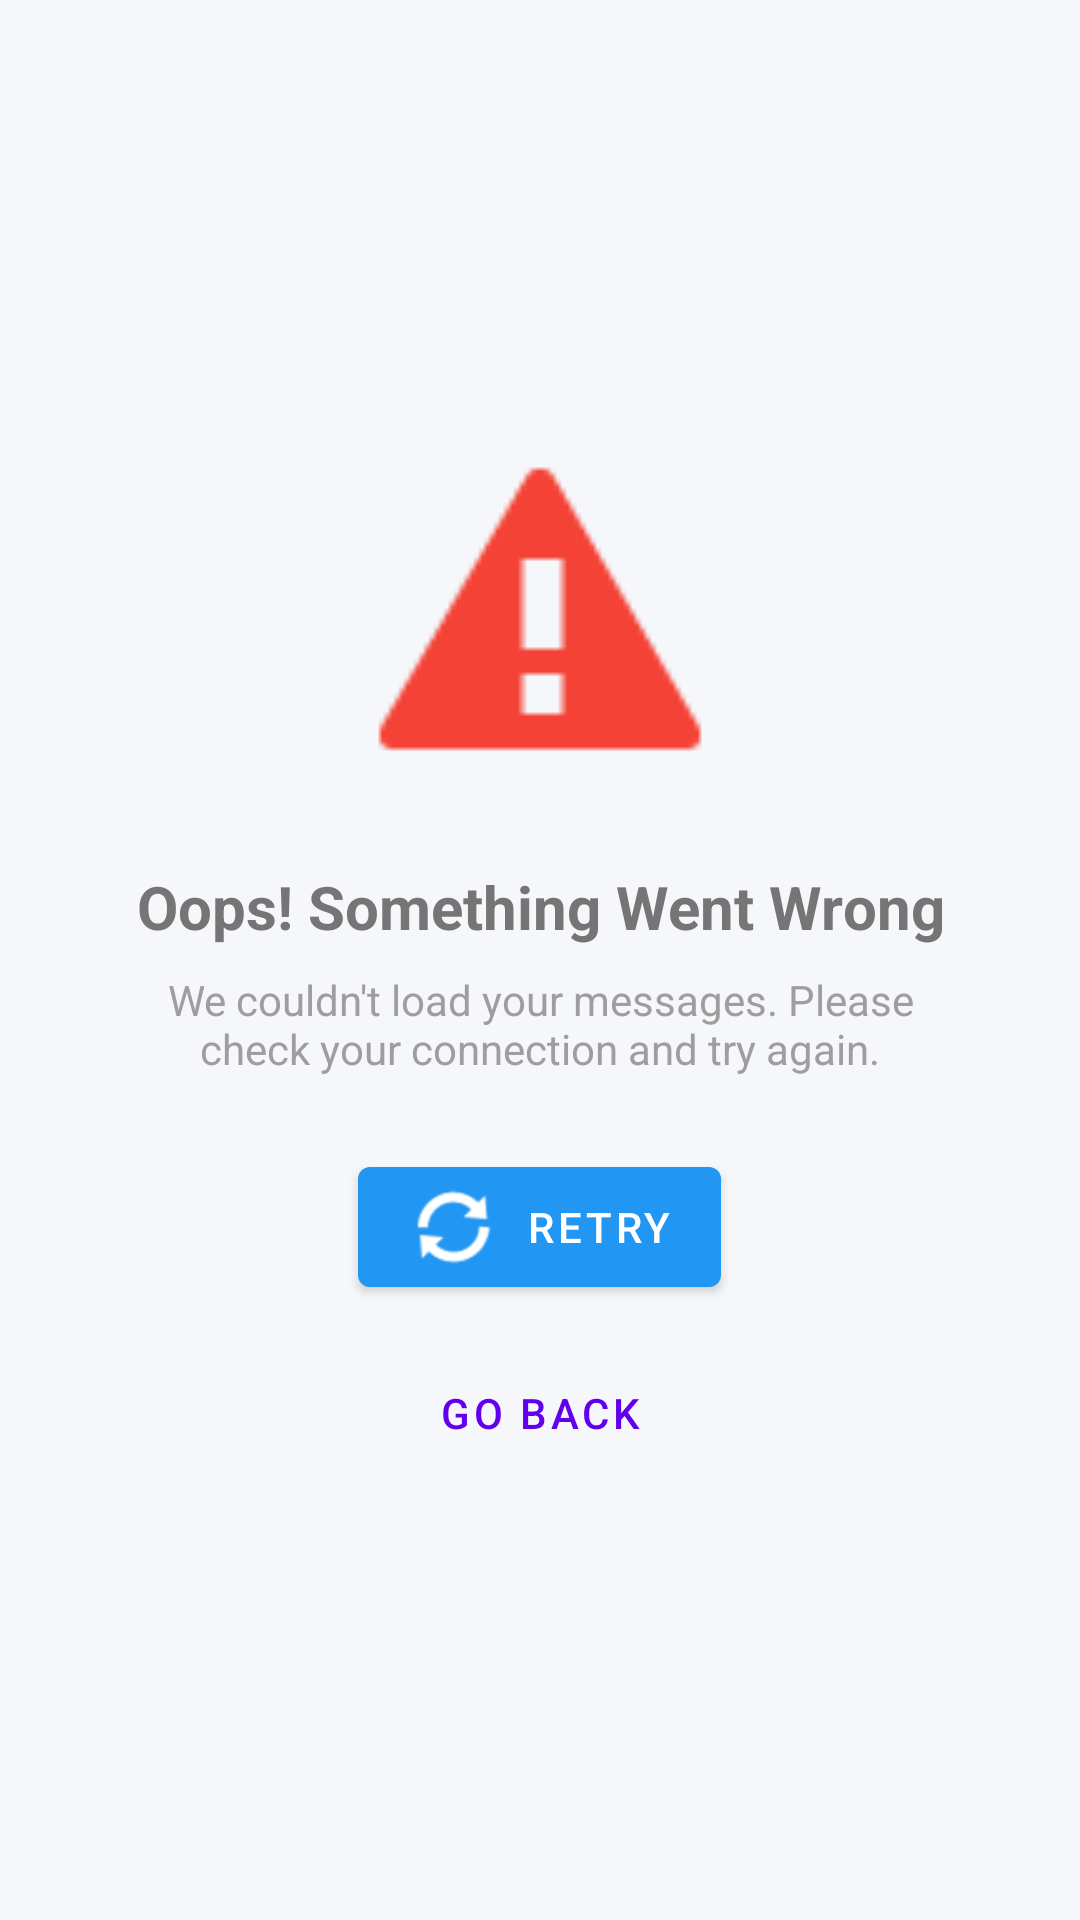

Screen size 1080px x 1920px. Icon name, then its center in pixels as [x,y]:
Error: [540,609]
